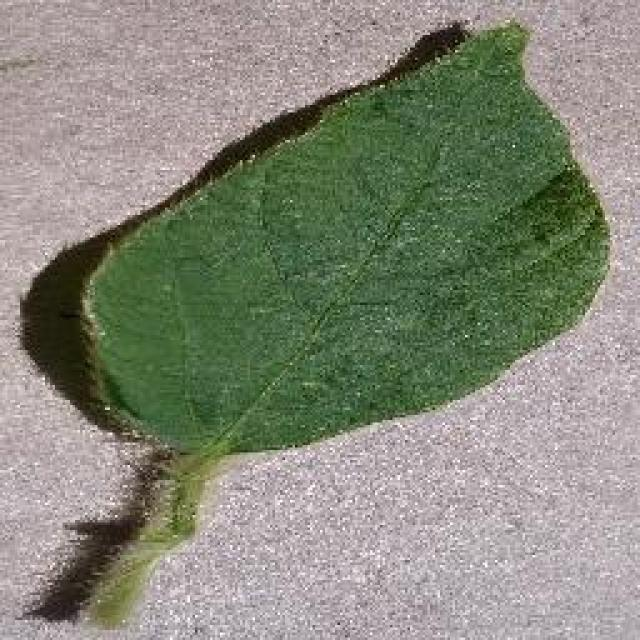Soy_healthy: (91, 63, 572, 438)
